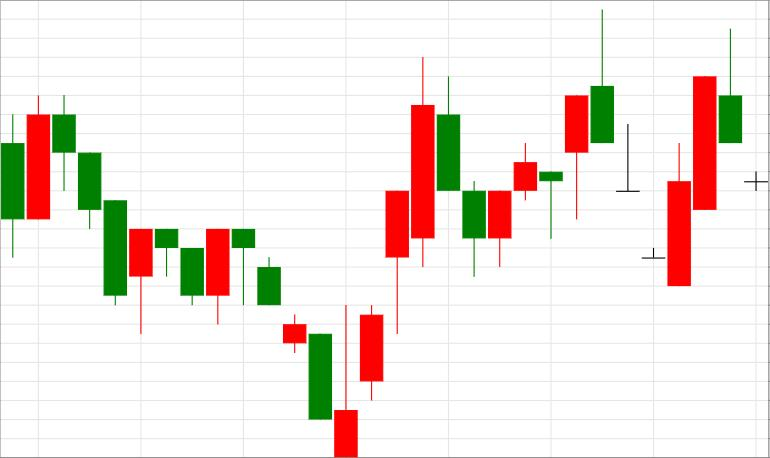inverse_hammer_rise: (232, 229, 358, 458)
three_white_soldiers_rise: (232, 191, 408, 458)
